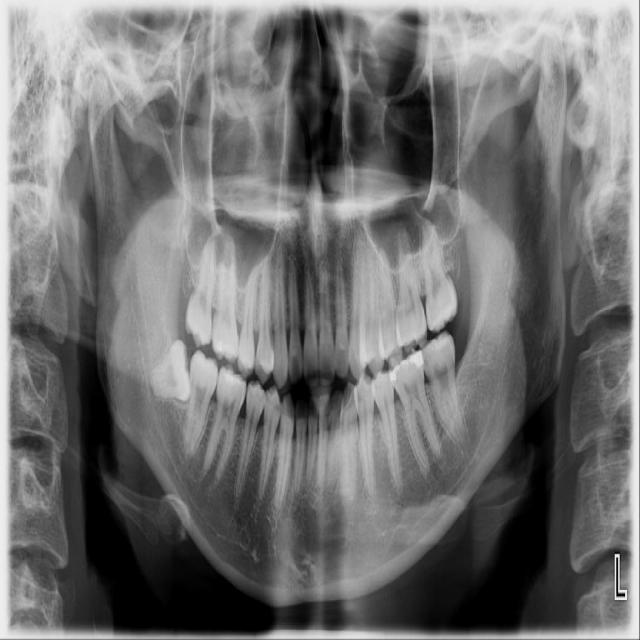Filling: (392, 351, 425, 381)
impacted tooth: (147, 340, 193, 400)
